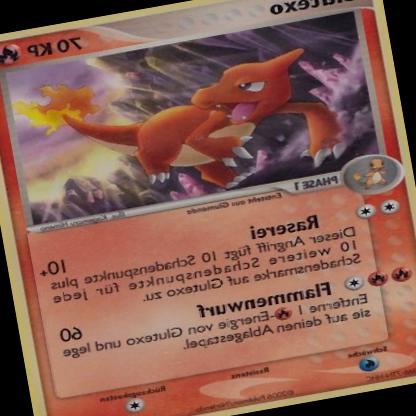Charmeleon: (18, 39, 349, 221)
